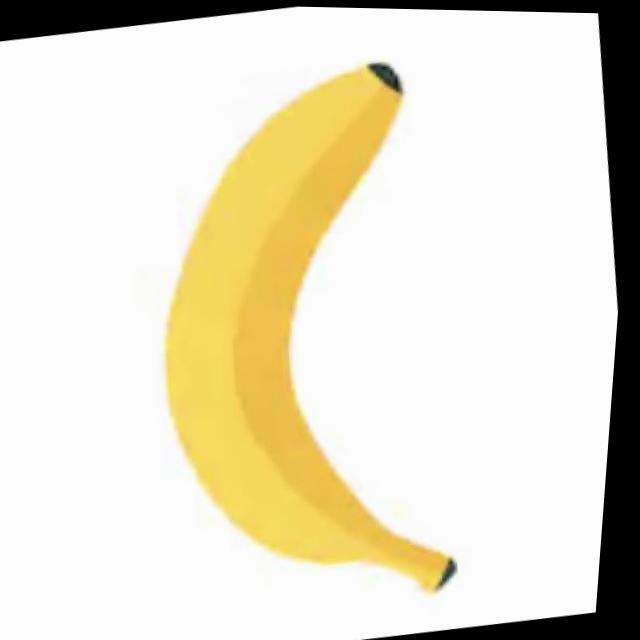Banana: (116, 50, 499, 629)
